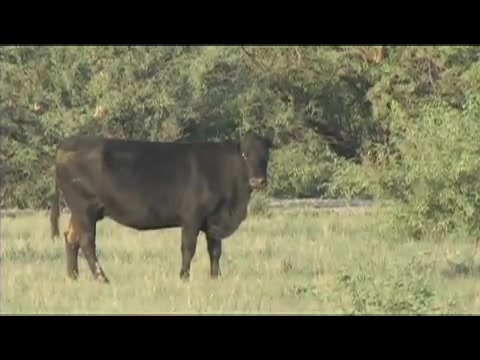cow: (48, 129, 279, 284)
